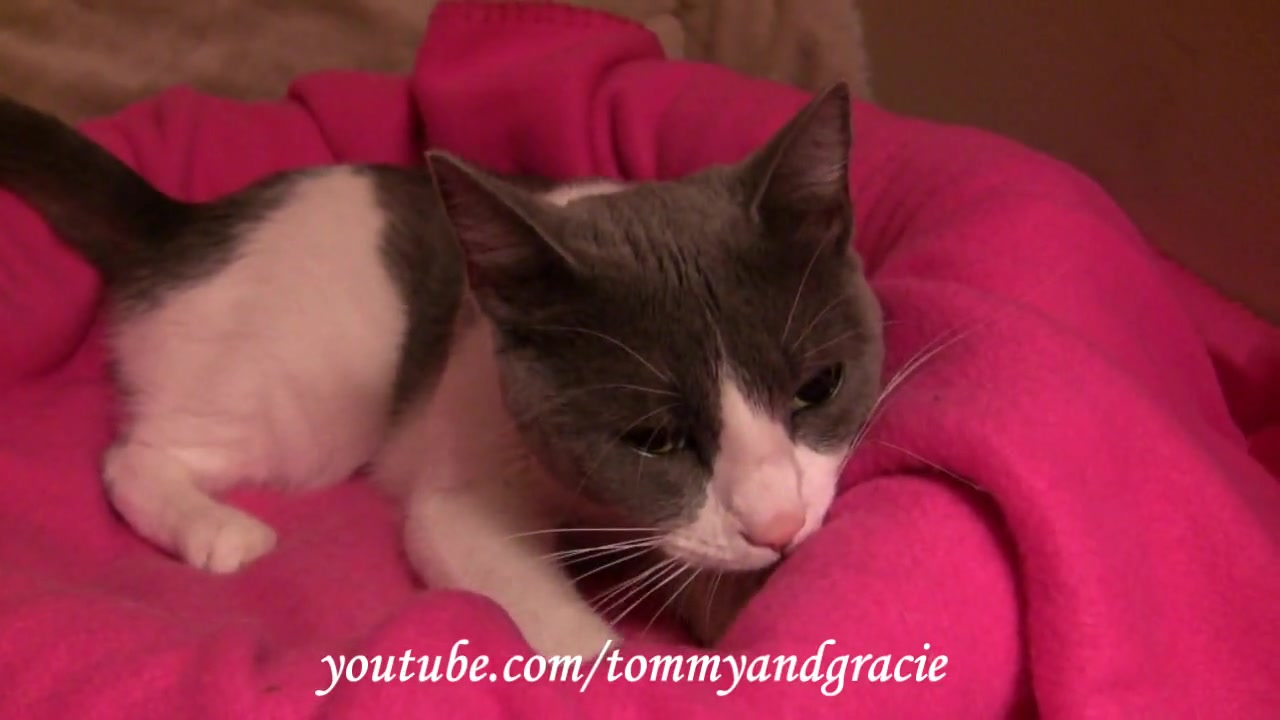cat: (1, 64, 887, 666)
